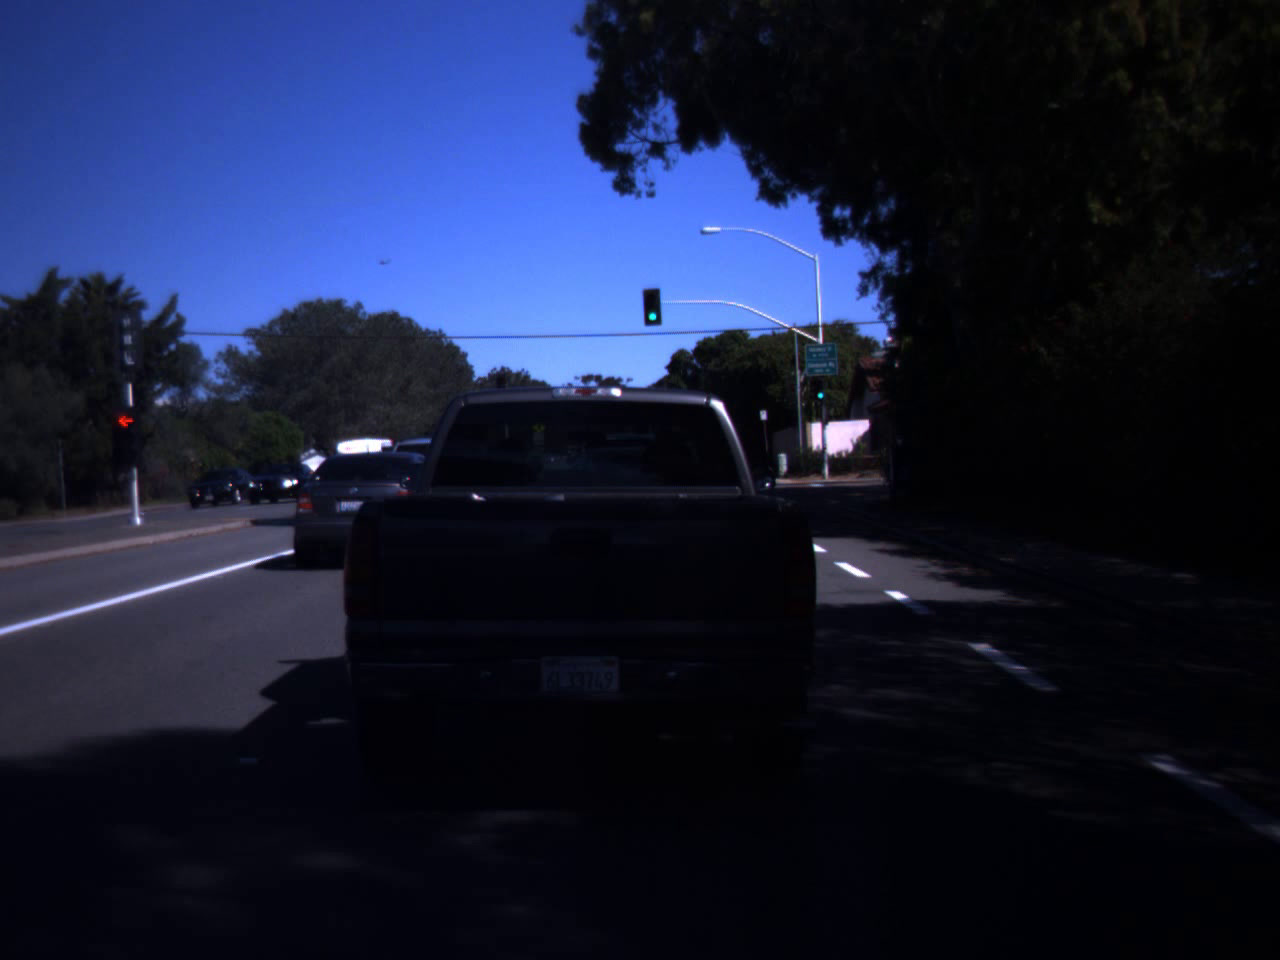go: (809, 362, 830, 402), (645, 292, 663, 322)
stop: (103, 404, 154, 471)
